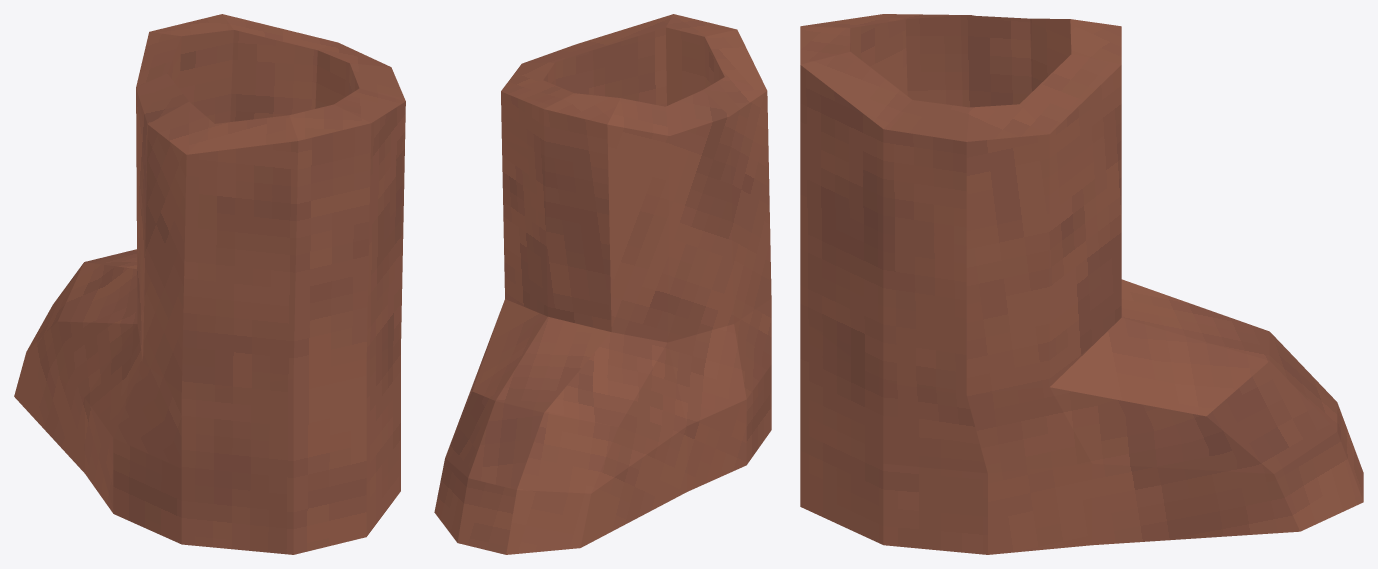
The model's file is Boot.glb.
3 views of the same model, side by side, from view 1: azimuth 30°, elevation 25°; view 2: azimuth 150°, elevation 25°; view 3: azimuth 270°, elevation 25° (orthographic). The views are drawn at different scales.
Parts seen in each view (by area): view 1: Fisher.001; view 2: Fisher.001; view 3: Fisher.001.
Part boxes in pixels (x1=…): Fisher.001: x1=14, y1=14, x2=405, y2=554; Fisher.001: x1=434, y1=14, x2=771, y2=554; Fisher.001: x1=800, y1=14, x2=1363, y2=554.
Bounding box in the file's own units: 0.3519 × 0.5315 × 0.5946.
Materials: 1 (1 with a texture image).
